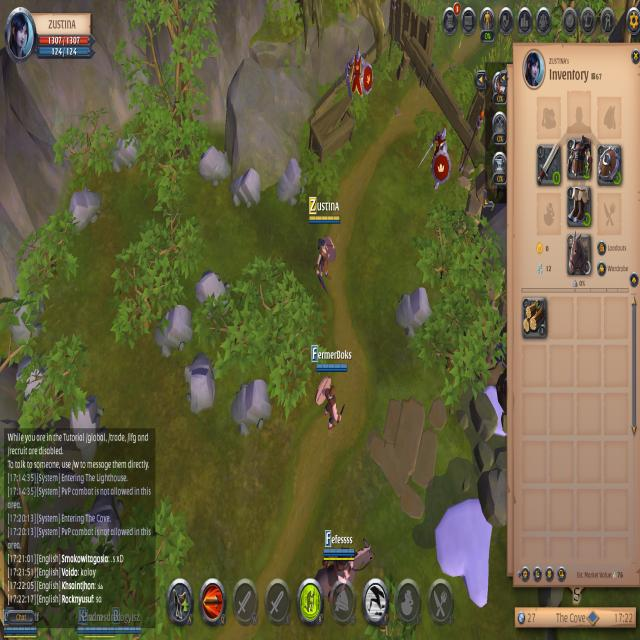stone: (64, 400, 110, 469), (229, 377, 276, 440), (150, 303, 198, 355), (8, 290, 50, 348), (180, 353, 218, 416), (395, 282, 434, 342), (193, 267, 233, 324), (64, 183, 103, 236), (227, 166, 265, 216), (196, 140, 229, 190), (109, 126, 143, 174), (277, 158, 306, 208)
